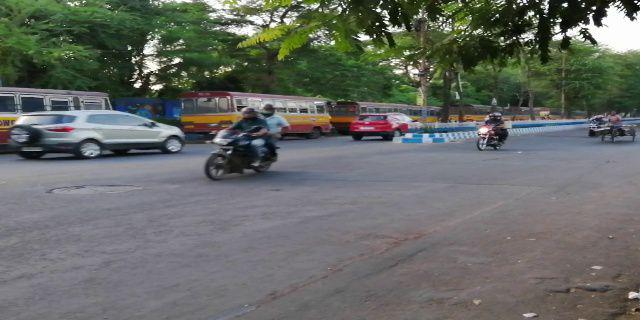Bus: (181, 88, 333, 140)
Car: (5, 107, 188, 162), (349, 107, 406, 147)
Motorbike: (200, 102, 292, 182), (470, 104, 510, 153)
